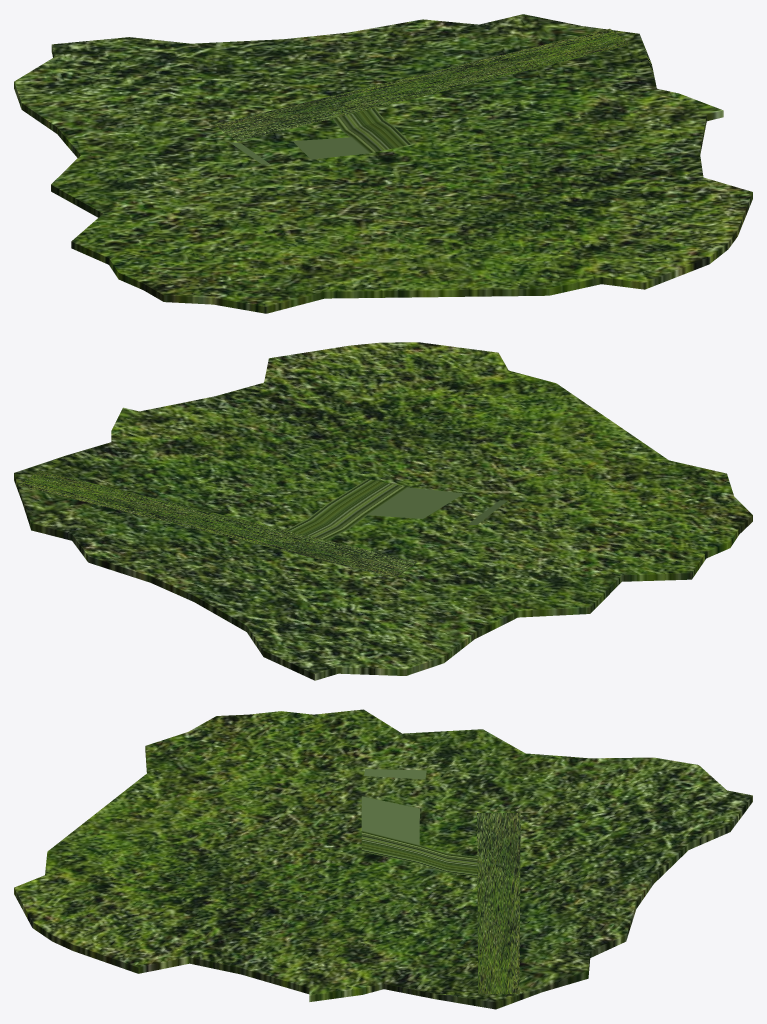
The model's file is camino.obj.
3 renders of one model, top to bottom at view 1: azimuth 30°, elevation 25°; view 2: azimuth 150°, elevation 25°; view 3: azimuth 270°, elevation 25°, orthographic. The views are drawn at different scales.
Parts seen in each view (by area): view 1: Plano, Plano.001; view 2: Plano, Plano.001; view 3: Plano, Plano.001.
Boxes of the visible parts, x1,y1,x2,y2 form: Plano: (14, 14, 752, 313); Plano.001: (214, 28, 631, 165); Plano: (14, 342, 752, 680); Plano.001: (18, 470, 507, 578); Plano: (14, 709, 752, 1009); Plano.001: (361, 769, 520, 994).
Bounding box in the file's own units: 13.41 × 0.7482 × 14.29.
Materials: 1 (1 with a texture image).
